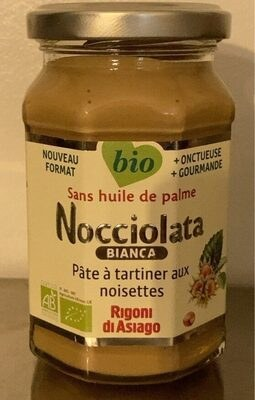Nocciolata la bianca: (13, 20, 242, 380)
